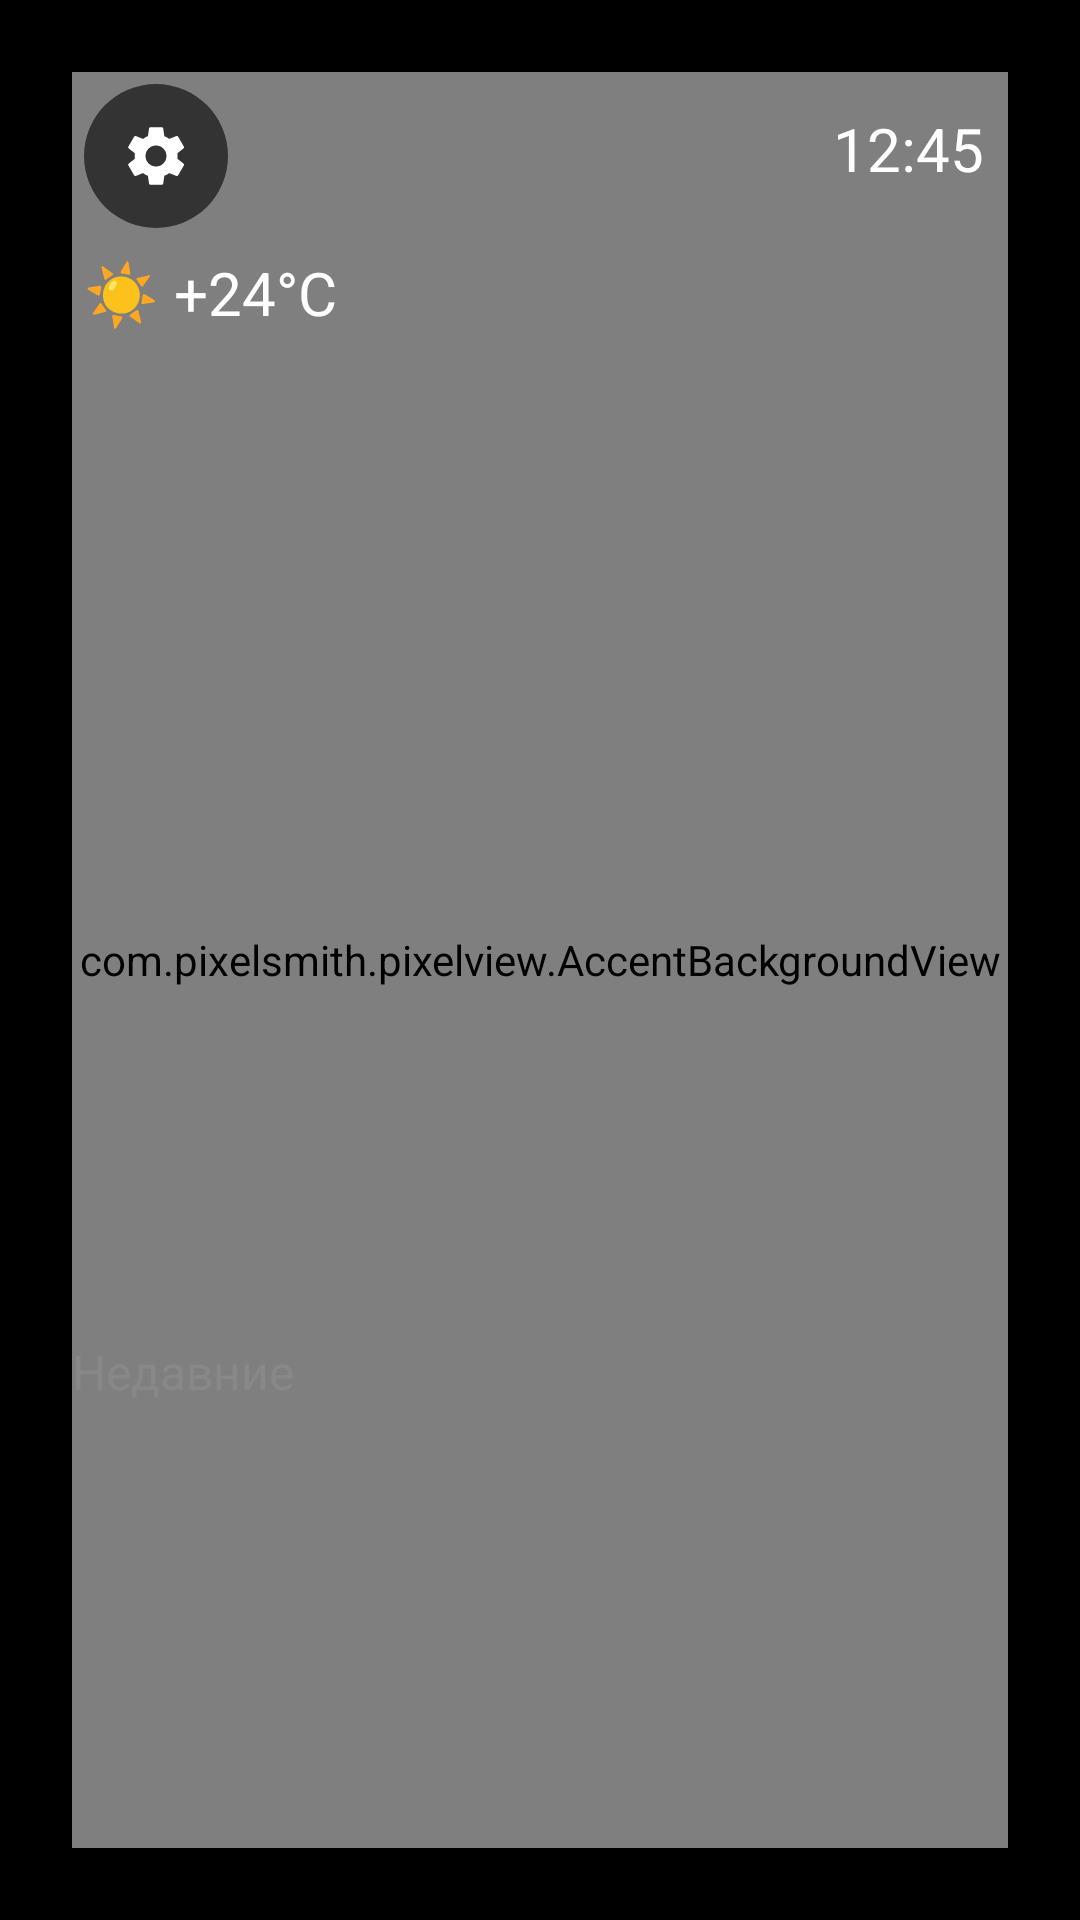

Locate icon controls on the screen. Image size 1080w x 1920h, boxes as {"x1": x1, "y1": y1, "x2": x2, "y2": y2}.
Настройки: {"x1": 84, "y1": 84, "x2": 228, "y2": 228}
